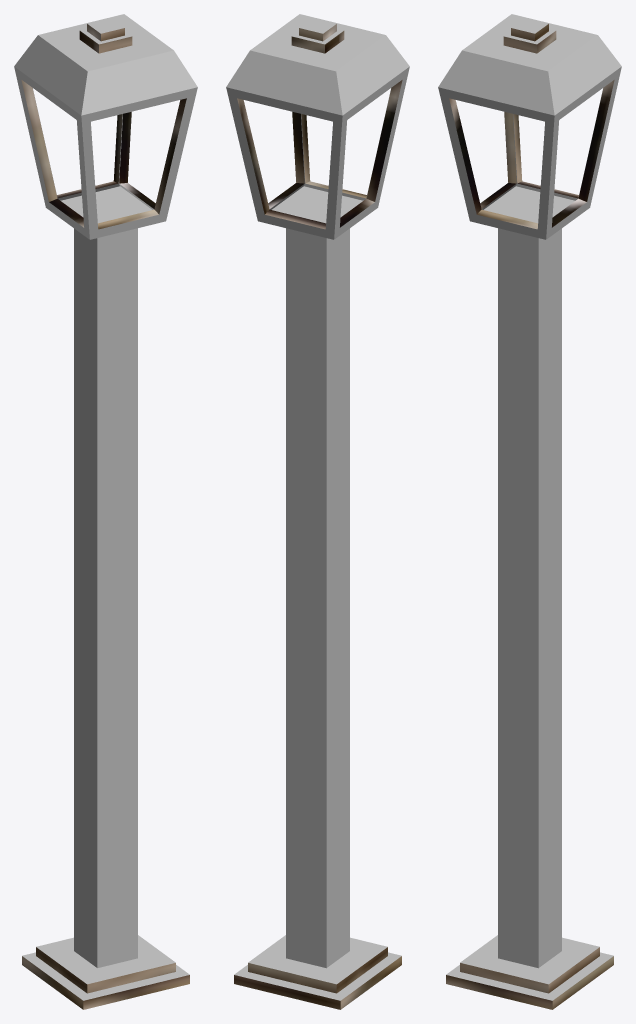
File: Lamp.fbx
The picture shows the model from 3 angles, left to right: view 1: azimuth 30°, elevation 25°; view 2: azimuth 150°, elevation 25°; view 3: azimuth 330°, elevation 25°; orthographic projection.
Parts seen in each view (by area): view 1: Pillar; view 2: Pillar; view 3: Pillar.
Part boxes in pixels (x1,y1,x2,y2): Pillar: (14, 14, 197, 1009); Pillar: (226, 14, 409, 1009); Pillar: (438, 14, 621, 1009).
Bounding box in the file's own units: 218 × 1696 × 218.
